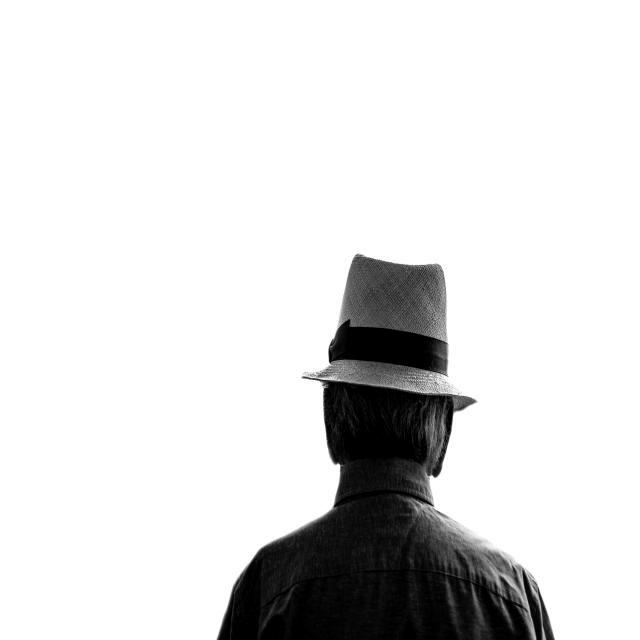no_hard_hat: (302, 254, 477, 411)
person: (218, 255, 554, 640)
